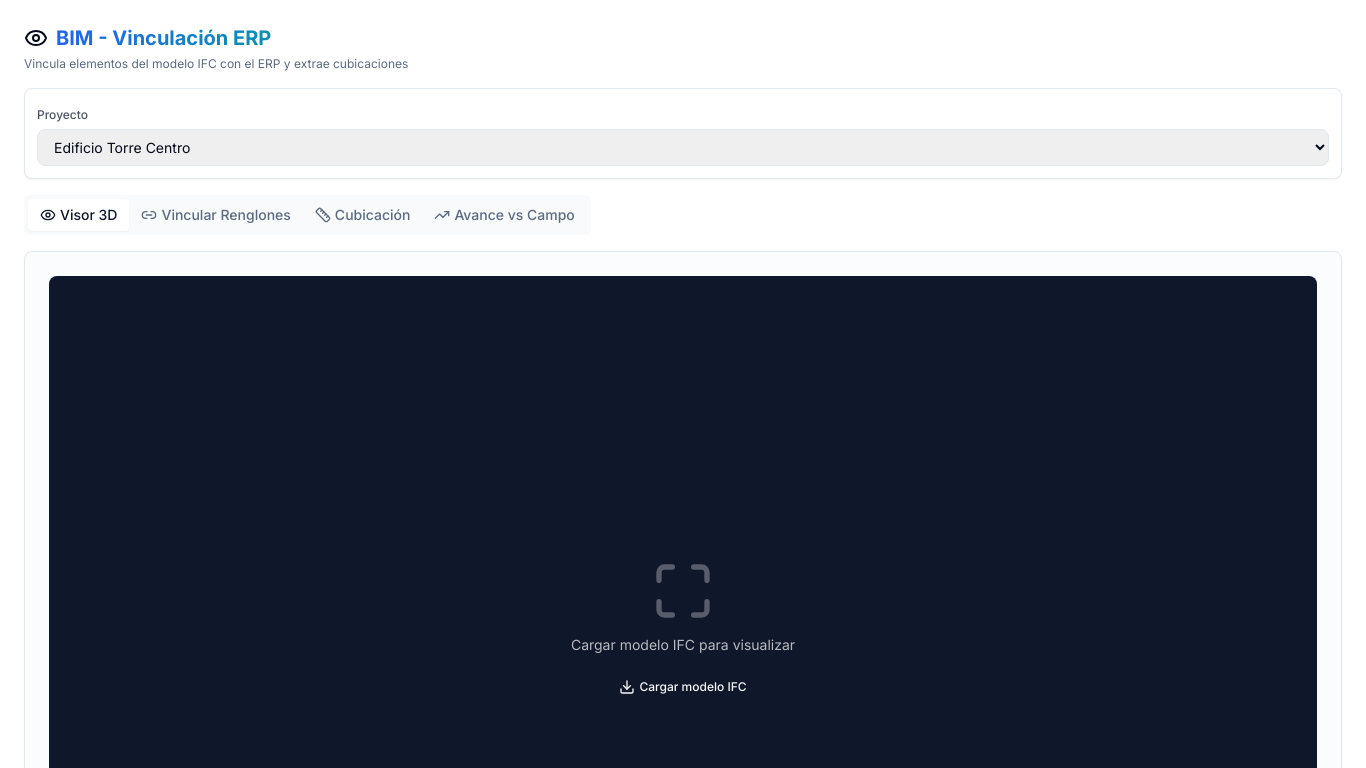
Test case: VisorBIM Screen › switching tabs shows correct content
Check: the tab "Visor 3D" is shown, box x1=28 y1=199 x2=130 y2=231
What coordinates should you click on to do the following:
click the tab "Vincular Renglones"
I would click on:
 (216, 215)
Its box is x1=130 y1=199 x2=303 y2=231.
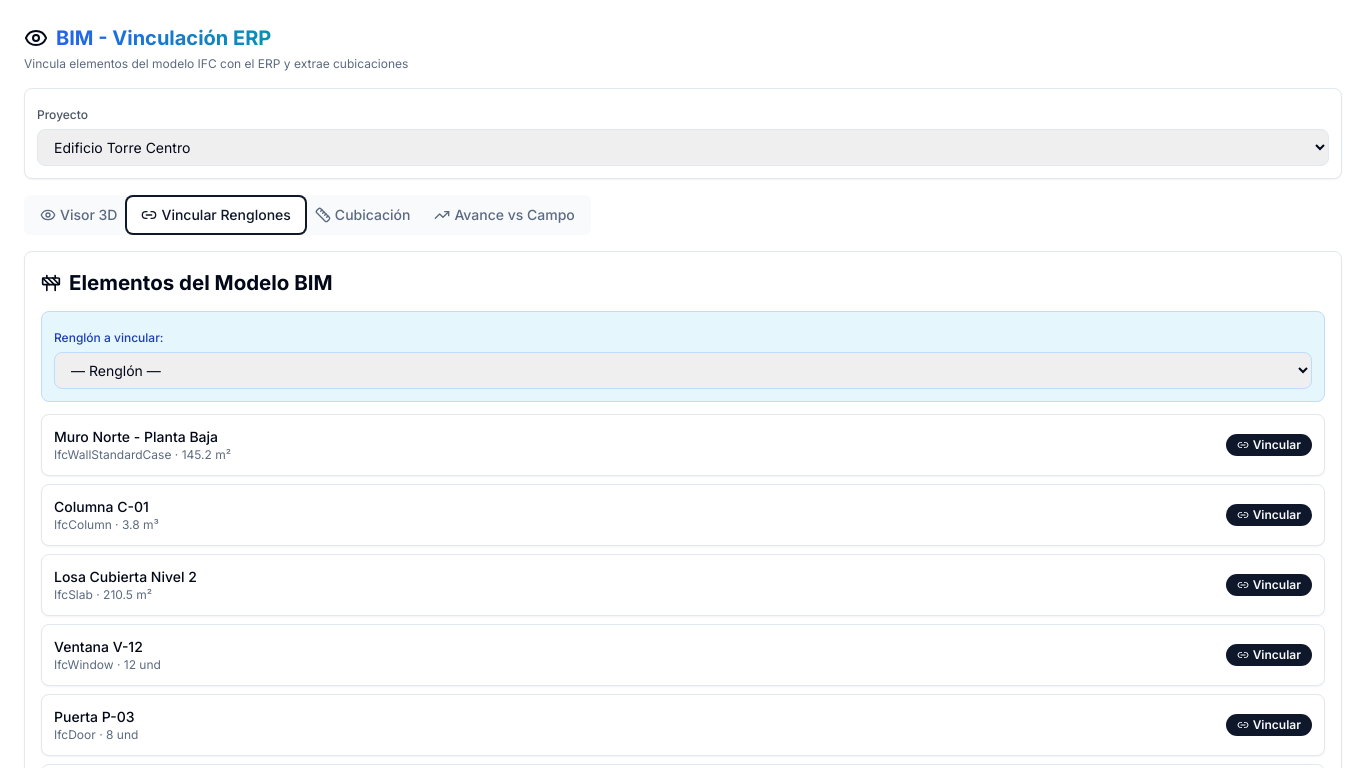
Check: the heading "Elementos del Modelo BIM" is shown, box x1=41 y1=270 x2=333 y2=295
What coordinates should you click on to do the following:
click the tab "Cubicación"
I would click on:
 (363, 215)
Its box is x1=303 y1=199 x2=422 y2=231.
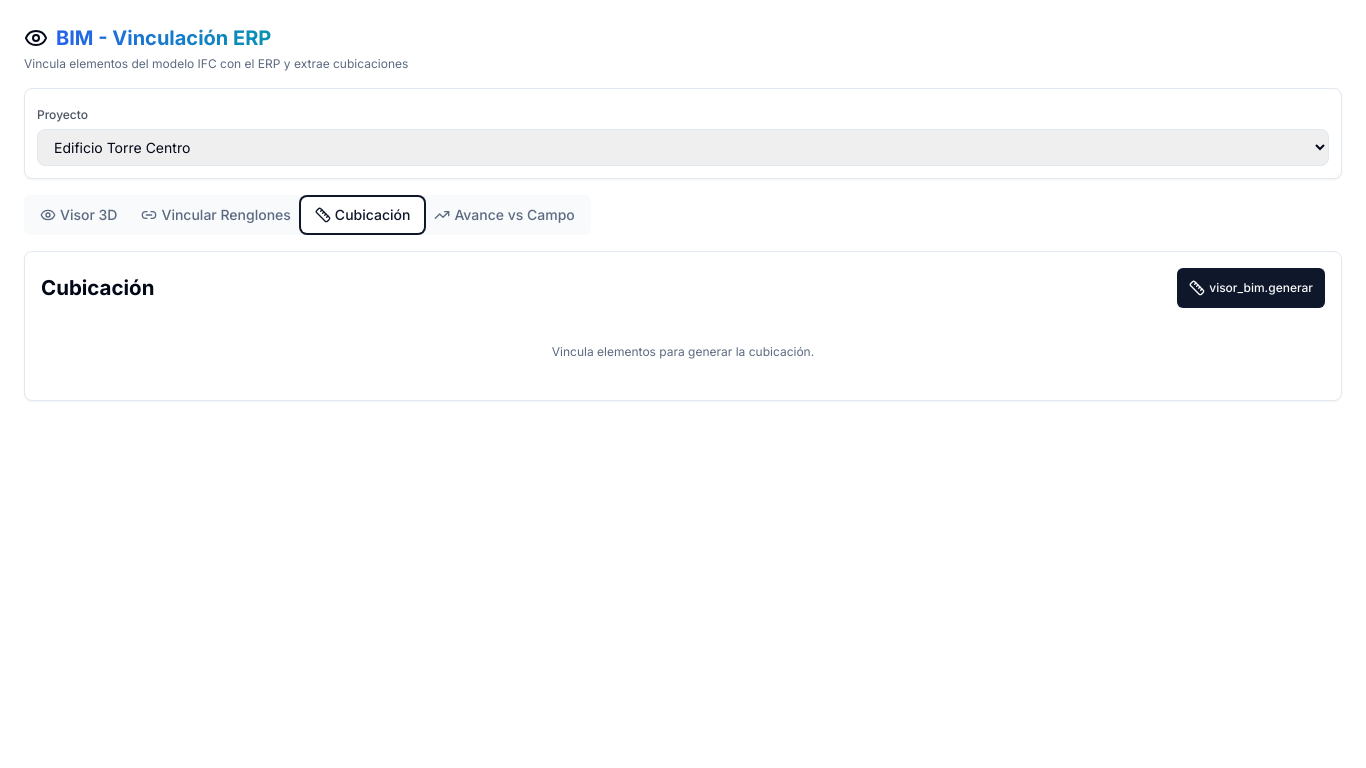
Check: the button "visor_bim.generar" is shown, box x1=1177 y1=268 x2=1325 y2=308
What coordinates should you click on to do the following:
click the tab "Avance vs Campo"
I would click on:
 (505, 215)
Its box is x1=422 y1=199 x2=587 y2=231.
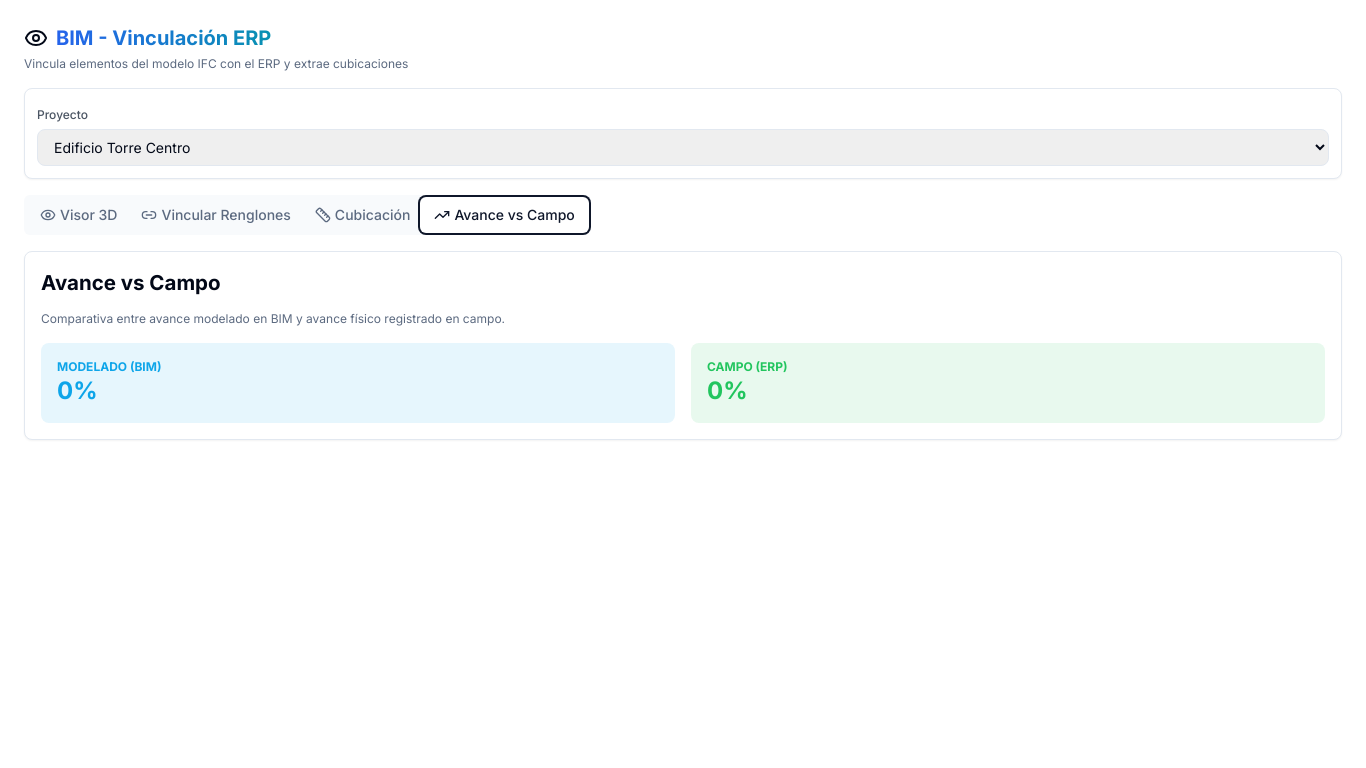
Check: the text "MODELADO (BIM)" is shown, box x1=57 y1=359 x2=161 y2=374
